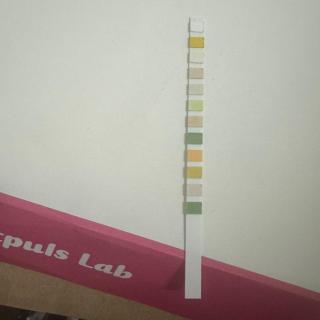mark: (185, 200, 202, 214), (188, 132, 202, 146), (189, 98, 203, 112), (189, 52, 204, 65), (186, 184, 201, 196), (188, 150, 203, 162), (188, 84, 204, 95), (187, 166, 201, 178), (188, 116, 202, 127), (189, 37, 203, 48), (190, 21, 203, 32), (189, 68, 203, 78)
